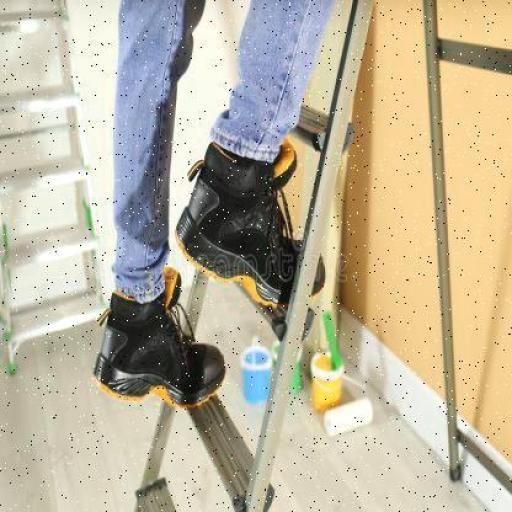safety_shoe: (183, 144, 315, 303), (96, 284, 214, 402)
